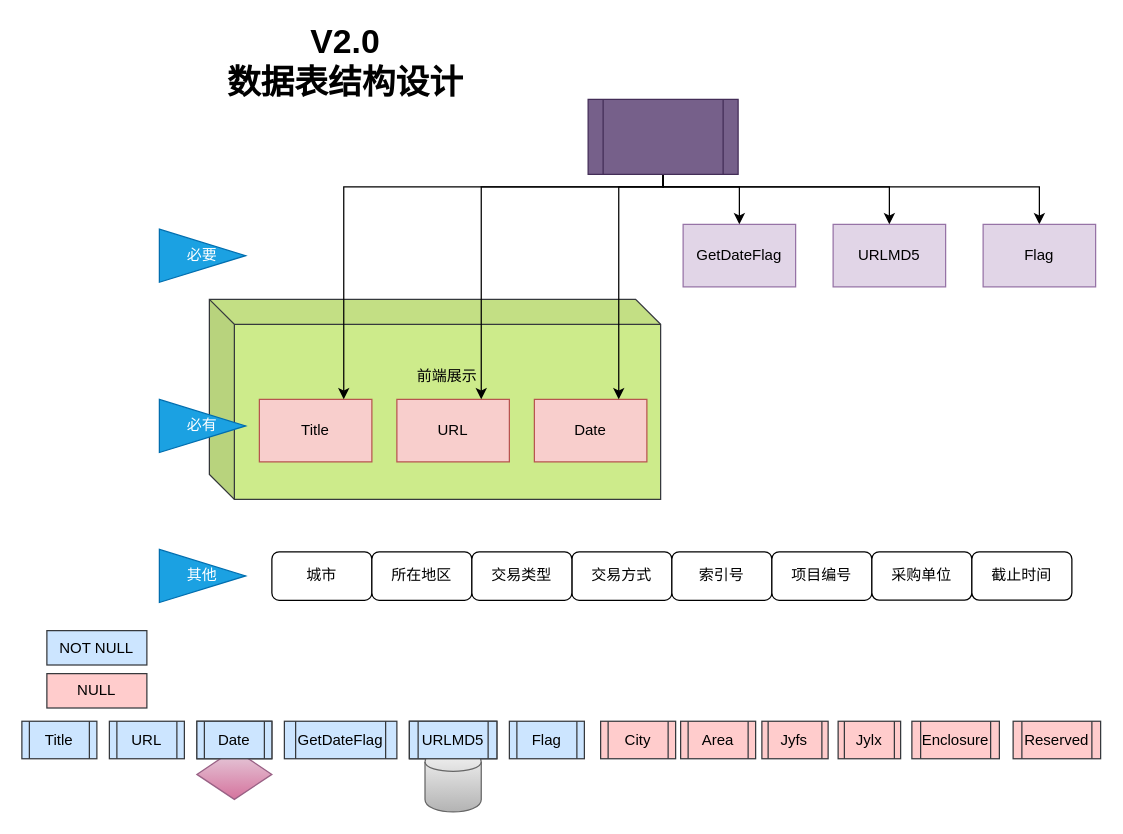
Some shapes in this 1123 by 834 pixel diagram are drawn without their labels. The centre of each missing label's shape, as x and y in pixels:
"DataBase" belongs at (x=662, y=136).
"Del" belongs at (x=234, y=773).
"Primary Key" belongs at (x=452, y=780).
